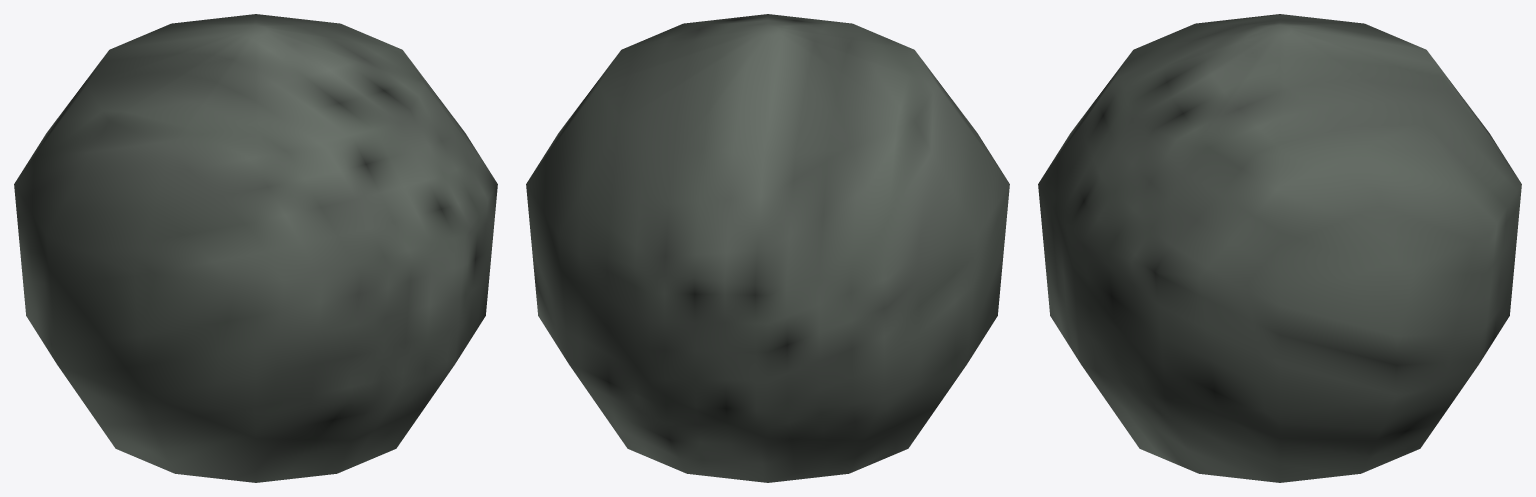
Rendered from fx_smoke.glb.
The picture shows the model from 3 angles, left to right: view 1: azimuth 30°, elevation 25°; view 2: azimuth 150°, elevation 25°; view 3: azimuth 270°, elevation 25°; orthographic projection.
Parts seen in each view (by area): view 1: fx_smoke.001; view 2: fx_smoke.001; view 3: fx_smoke.001.
Boxes of the visible parts, x1,y1,x2,y2 form: fx_smoke.001: (14, 14, 497, 482); fx_smoke.001: (526, 14, 1009, 482); fx_smoke.001: (1038, 14, 1521, 482).
Size of the model in its own units: 0.16 by 0.16 by 0.16.
1 material, 1 textured.
